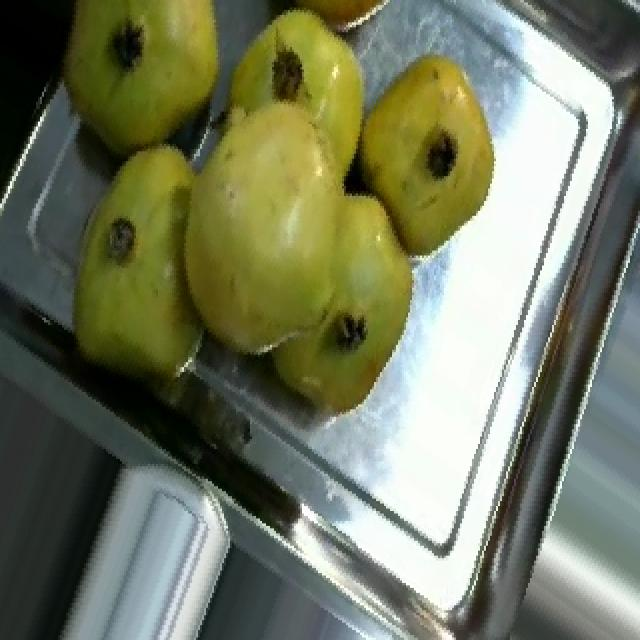fruit: (180, 159, 448, 439), (340, 28, 524, 280), (188, 0, 400, 216)
